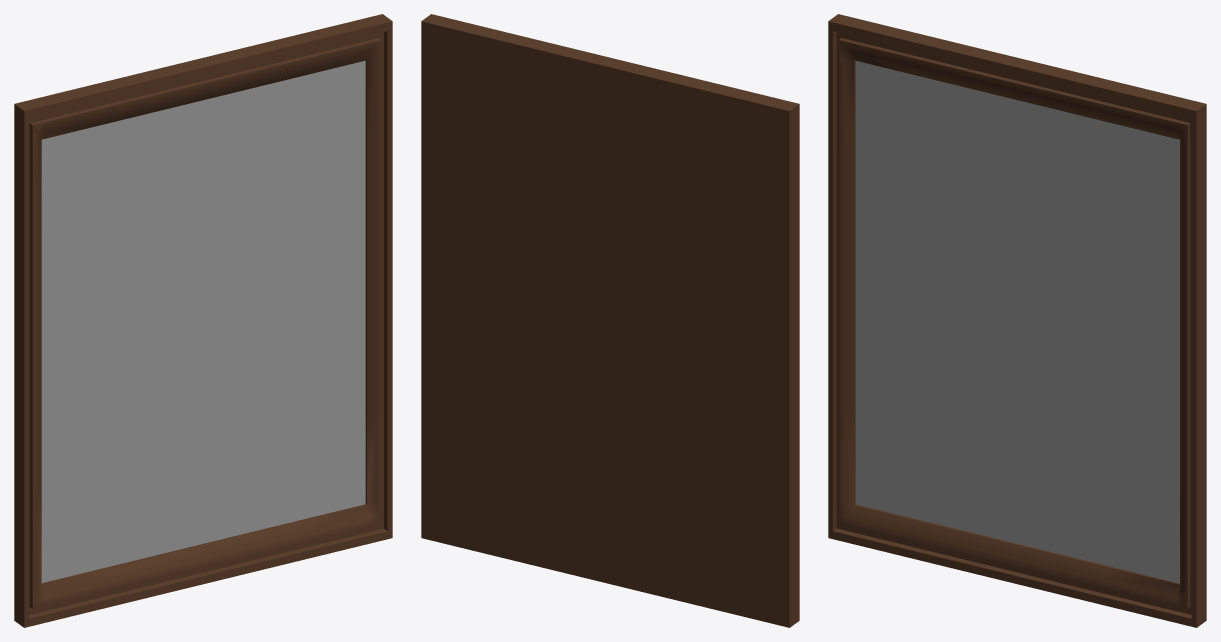
The model's file is tall_frame_Plane.fbx.
3 renders of one model, left to right at view 1: azimuth 30°, elevation 25°; view 2: azimuth 150°, elevation 25°; view 3: azimuth 330°, elevation 25°, orthographic.
Parts seen in each view (by area): view 1: picture, wide_frame; view 2: wide_frame; view 3: picture, wide_frame.
Boxes of the visible parts, left/top/right/bottom form: picture: left=41, top=60, right=365, bottom=582; wide_frame: left=14, top=14, right=392, bottom=627; wide_frame: left=421, top=14, right=799, bottom=627; picture: left=855, top=61, right=1179, bottom=583; wide_frame: left=828, top=14, right=1206, bottom=627.
Bounding box in the file's own units: 0.7236 × 0.9699 × 0.034.
